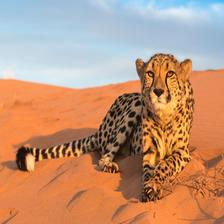Cheetah: (14, 53, 197, 204)
